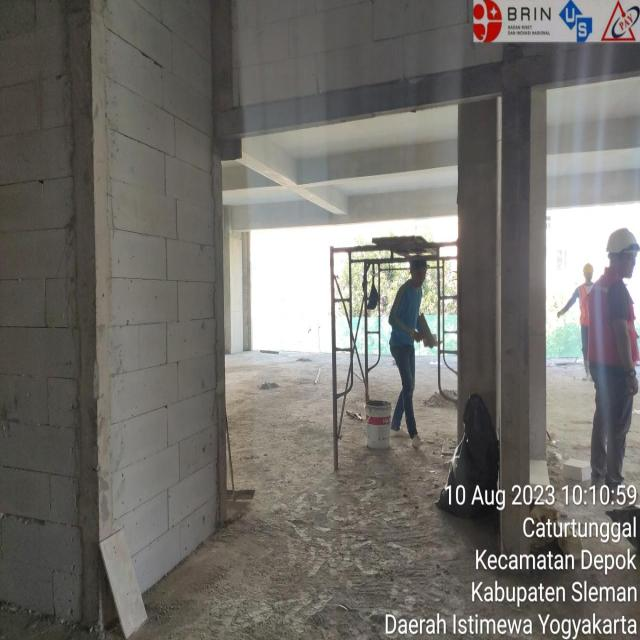Helmet: (391, 277, 423, 359), (596, 215, 640, 269), (406, 244, 432, 290), (578, 253, 598, 288)
Safety Vest: (592, 271, 640, 394), (570, 276, 594, 343)
